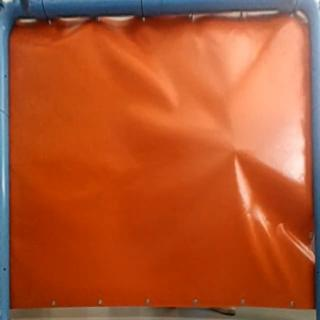Hit-hRxx: (222, 142, 242, 156)
